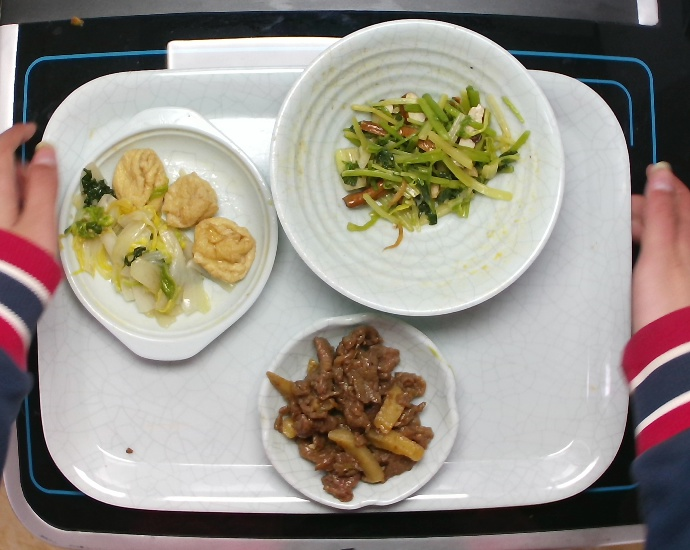JYsf-Ao_Yuan_Wan: (260, 319, 464, 513)
JYsf-Shuang_Er_Pan: (59, 101, 282, 364)
JYsf-Xiao_Tang_Wan: (272, 17, 563, 320)
